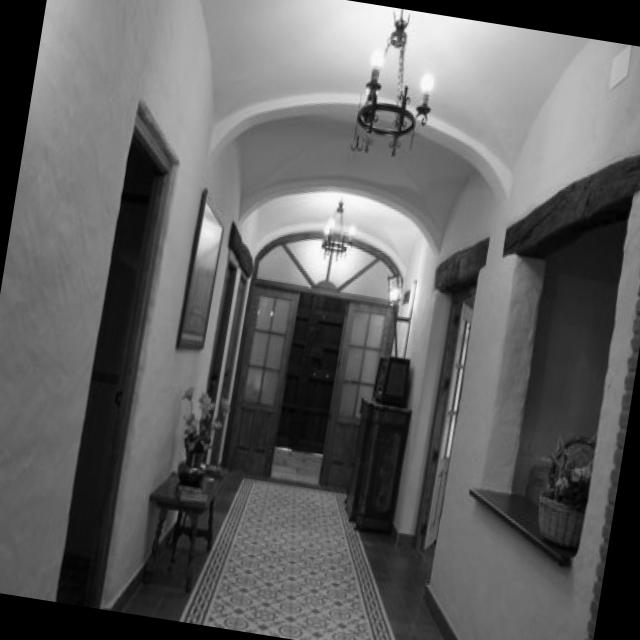door bars: (226, 280, 301, 475)
